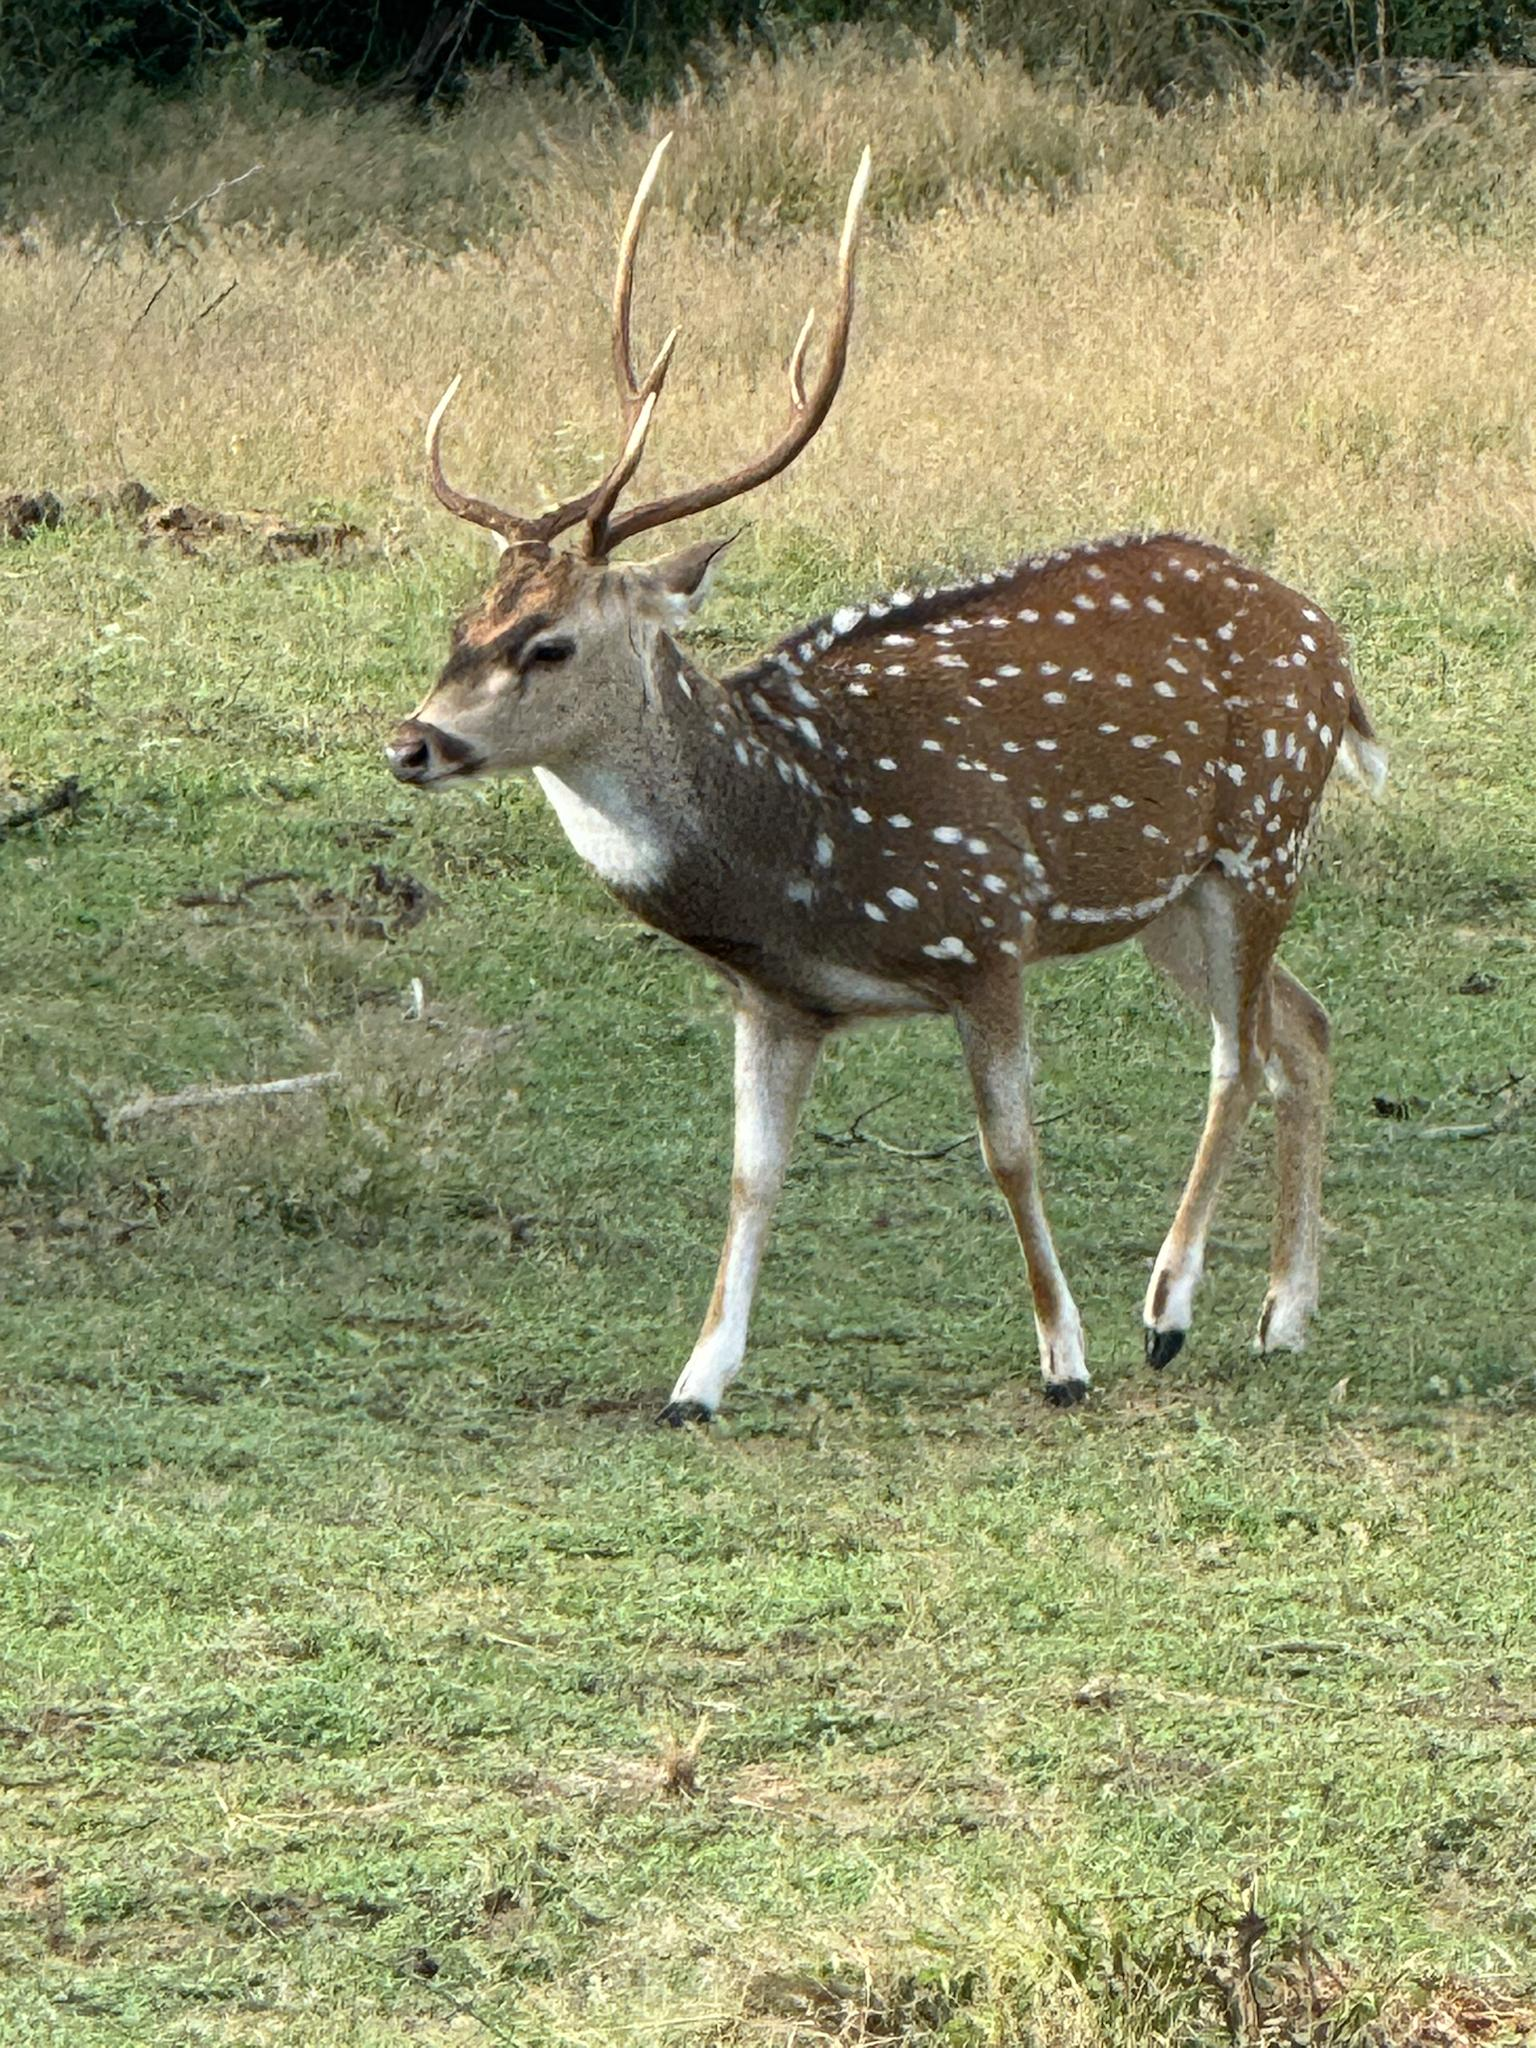Deer: (387, 134, 1384, 1424)
